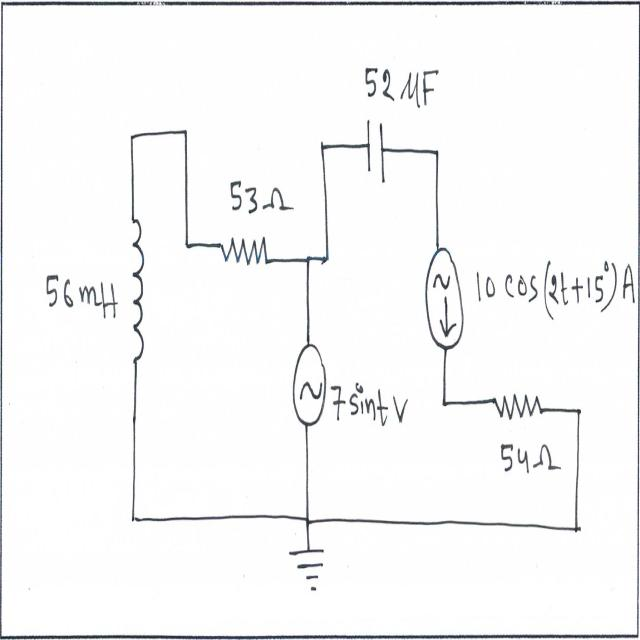capacitor: (363, 104, 388, 189)
current_source: (421, 241, 472, 365), (290, 339, 330, 430)
ground: (286, 544, 329, 598)
inductor: (126, 212, 149, 369)
resistor: (492, 384, 543, 430), (219, 232, 270, 272)
